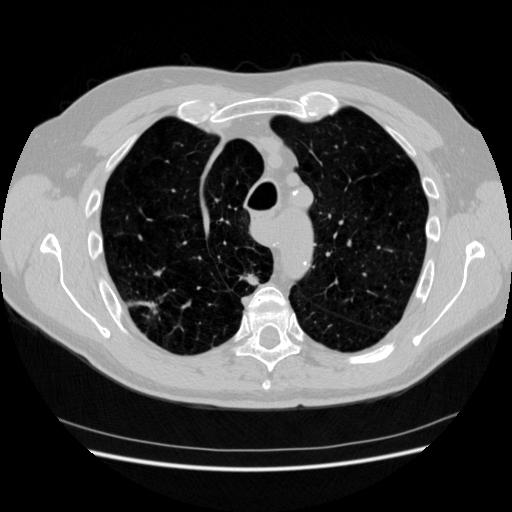nodule: (242, 269, 262, 289)
